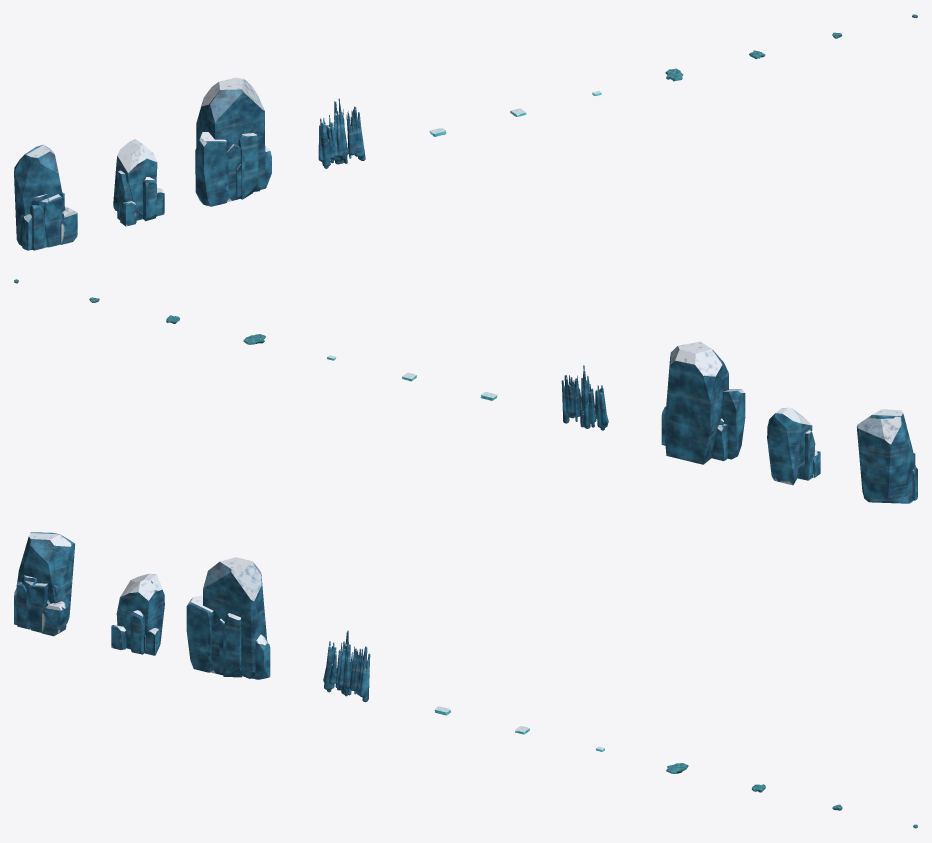
Rendered from Abyss.gltf.
3 views of the same model, one above another, from view 1: azimuth 30°, elevation 25°; view 2: azimuth 150°, elevation 25°; view 3: azimuth 330°, elevation 25° (orthographic).
Parts seen in each view (by area): view 1: Serac_C, Serac_A, Serac_B, IceFall; view 2: Serac_C, Serac_A, Serac_B, IceFall; view 3: Serac_C, Serac_A, Serac_B, IceFall.
Part boxes in pixels (x1=…): Serac_C: x1=195, y1=77, x2=271, y2=206; Serac_A: x1=14, y1=144, x2=77, y2=250; Serac_B: x1=113, y1=139, x2=164, y2=226; IceFall: x1=318, y1=98, x2=365, y2=168; Serac_C: x1=661, y1=341, x2=745, y2=464; Serac_A: x1=856, y1=409, x2=917, y2=503; Serac_B: x1=767, y1=407, x2=820, y2=485; IceFall: x1=561, y1=365, x2=608, y2=430; Serac_C: x1=186, y1=557, x2=270, y2=679; Serac_A: x1=14, y1=532, x2=74, y2=636; Serac_B: x1=111, y1=573, x2=164, y2=655; IceFall: x1=323, y1=630, x2=370, y2=702.
Size of the model in its own units: 195 by 22.3 by 8.64.
3 materials, 3 textured.
